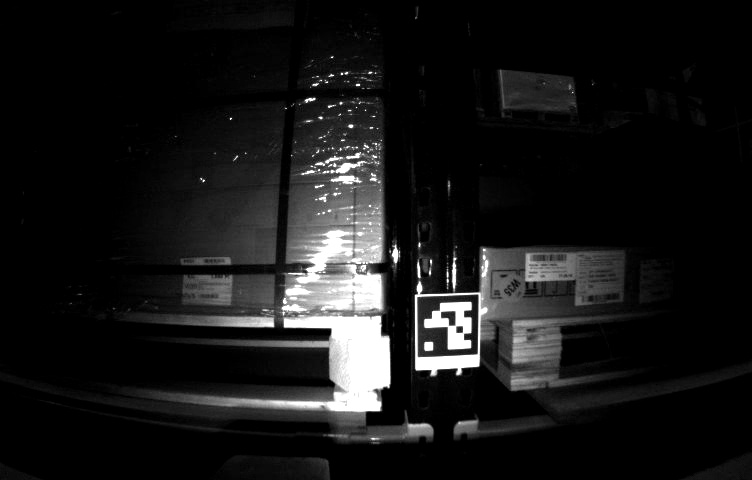True Barcode: (179, 256, 230, 303), (640, 260, 679, 298)
